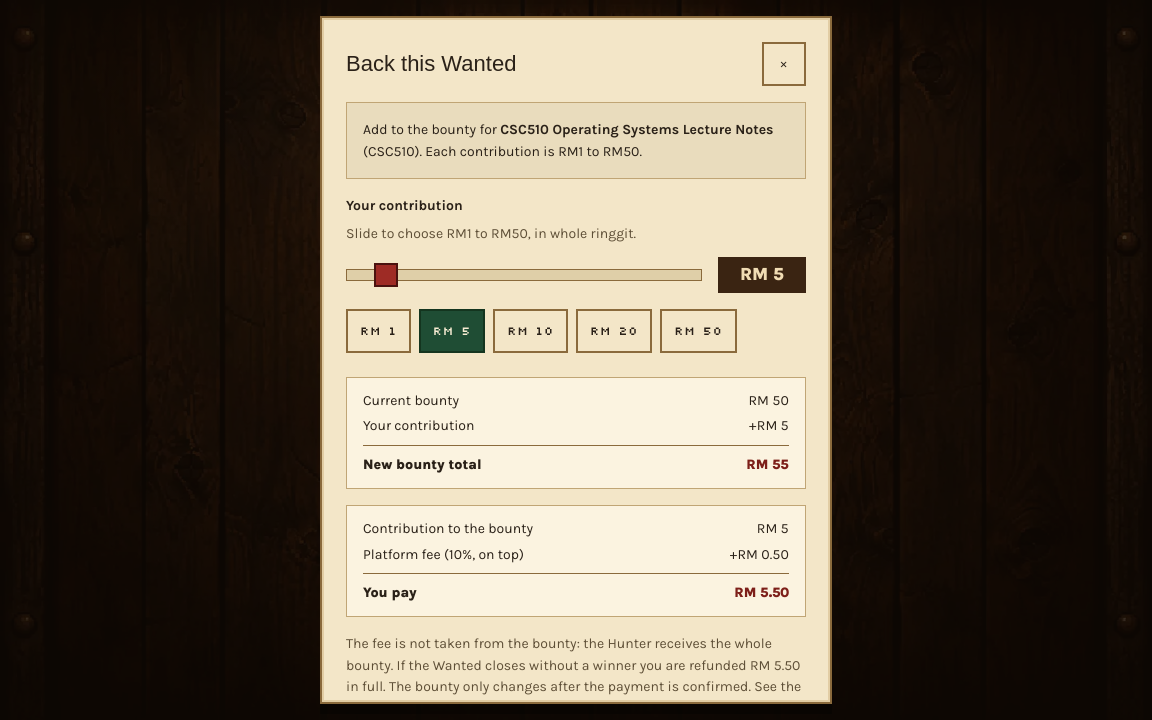
Test: BackWantedModal › calculates projected bounty correctly when preset amount changes
The width and height of the screenshot is (1152, 720).
expect the text "RM 55" is shown: met, box 746,454 -> 789,476
# Select RM 20
Set the slider labelled "Your contribution" to "20" at (486, 275), box 346,253 -> 702,297
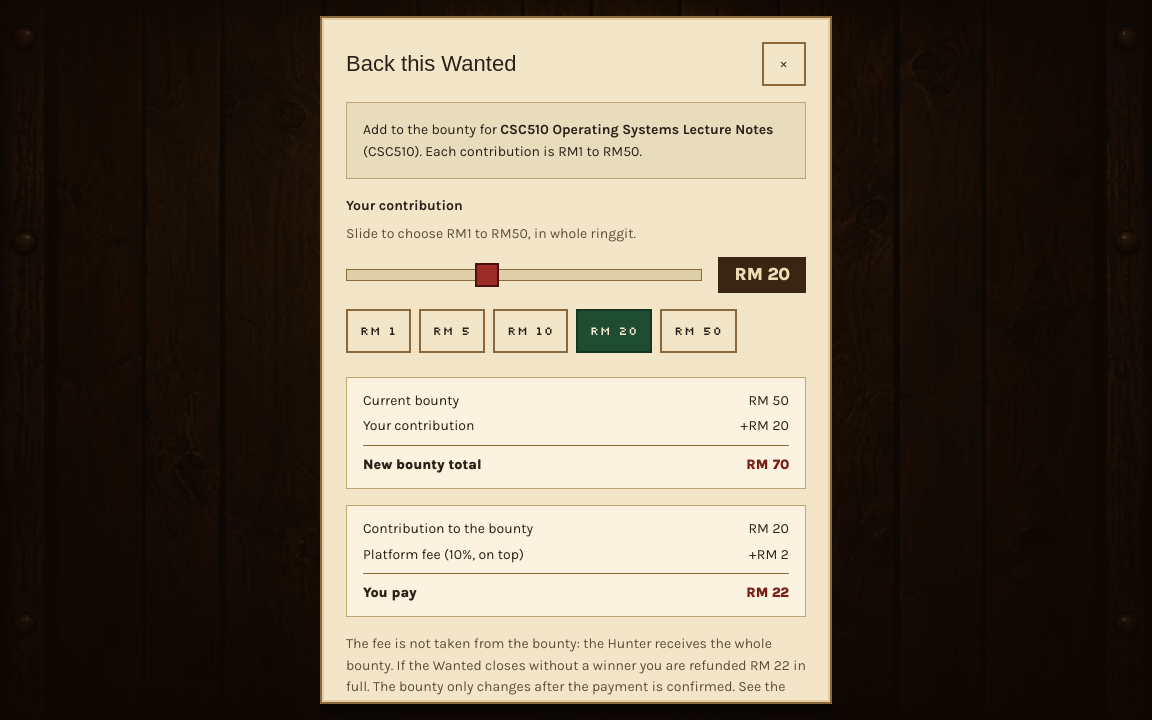
expect the text "RM 70" is shown: met, box 746,454 -> 789,476
